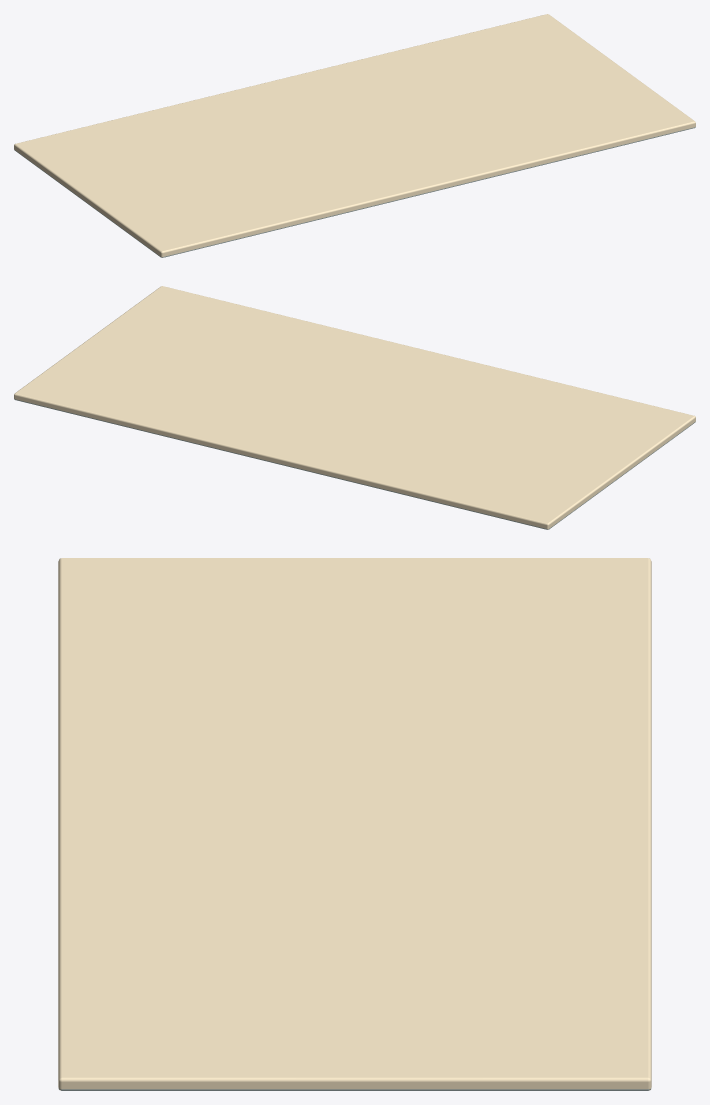
File: fridge-tray-entry-light.glb
The picture shows the model from 3 angles, top to bottom: view 1: azimuth 30°, elevation 25°; view 2: azimuth 150°, elevation 25°; view 3: azimuth 270°, elevation 25°; orthographic projection. The views are drawn at different scales.
Parts seen in each view (by area): view 1: ivory, steel; view 2: ivory, steel; view 3: ivory, steel.
Part boxes in pixels (x1,y1,x2,y2): ivory: [14, 14, 695, 257]; steel: [14, 127, 695, 257]; ivory: [14, 286, 695, 529]; steel: [14, 399, 695, 529]; ivory: [58, 558, 651, 1090]; steel: [58, 1088, 651, 1090].
Bounding box in the file's own units: 25 × 0.3 × 12.
